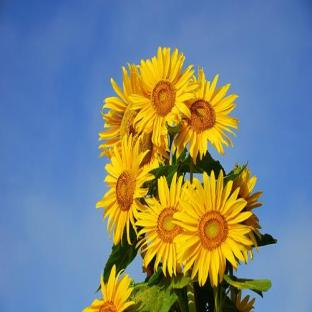sunflower: (173, 170, 253, 287), (128, 47, 198, 146), (96, 135, 155, 245)
